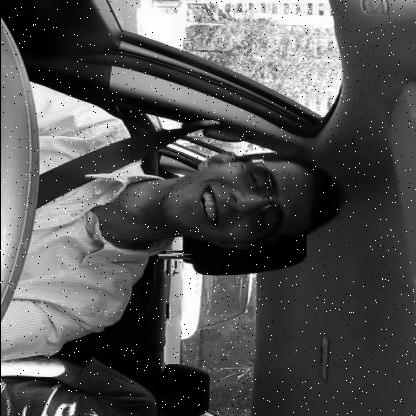seatbelt: (16, 112, 354, 260)
